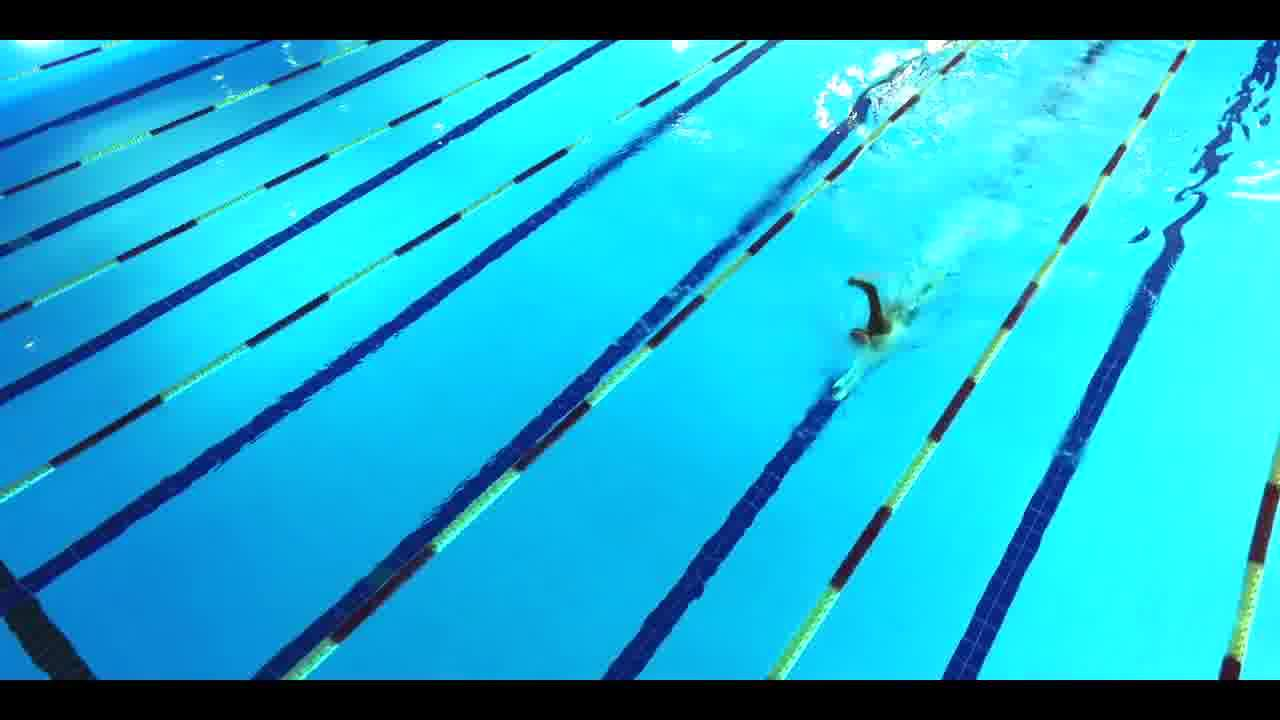human: (833, 256, 956, 400)
